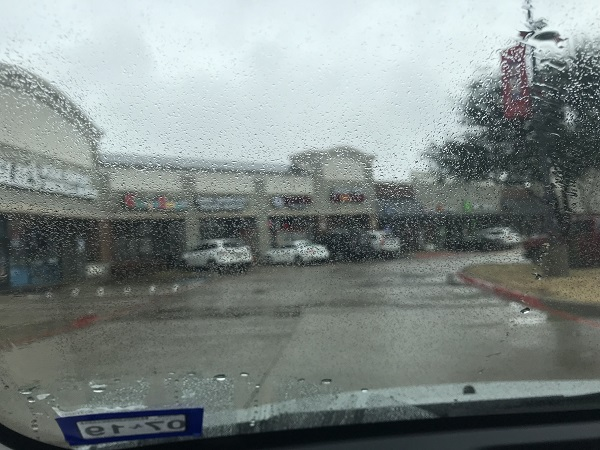car: (182, 238, 254, 272), (264, 240, 327, 268), (320, 230, 369, 263), (482, 223, 520, 248), (369, 228, 400, 255)
